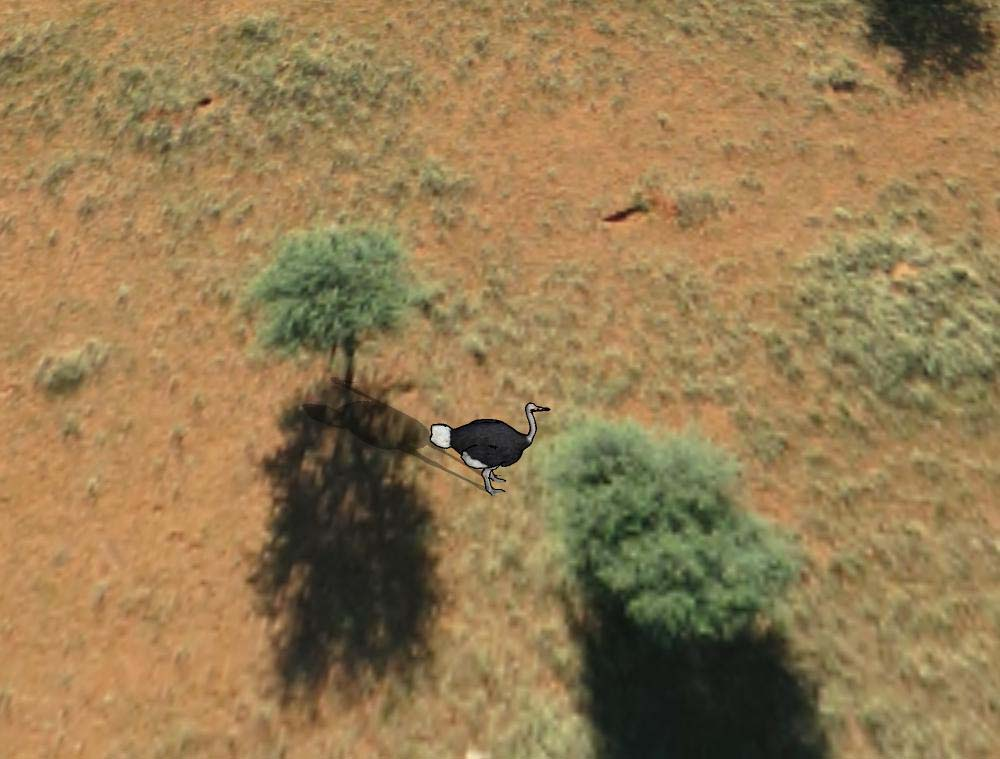ostrich: (429, 398, 551, 500)
